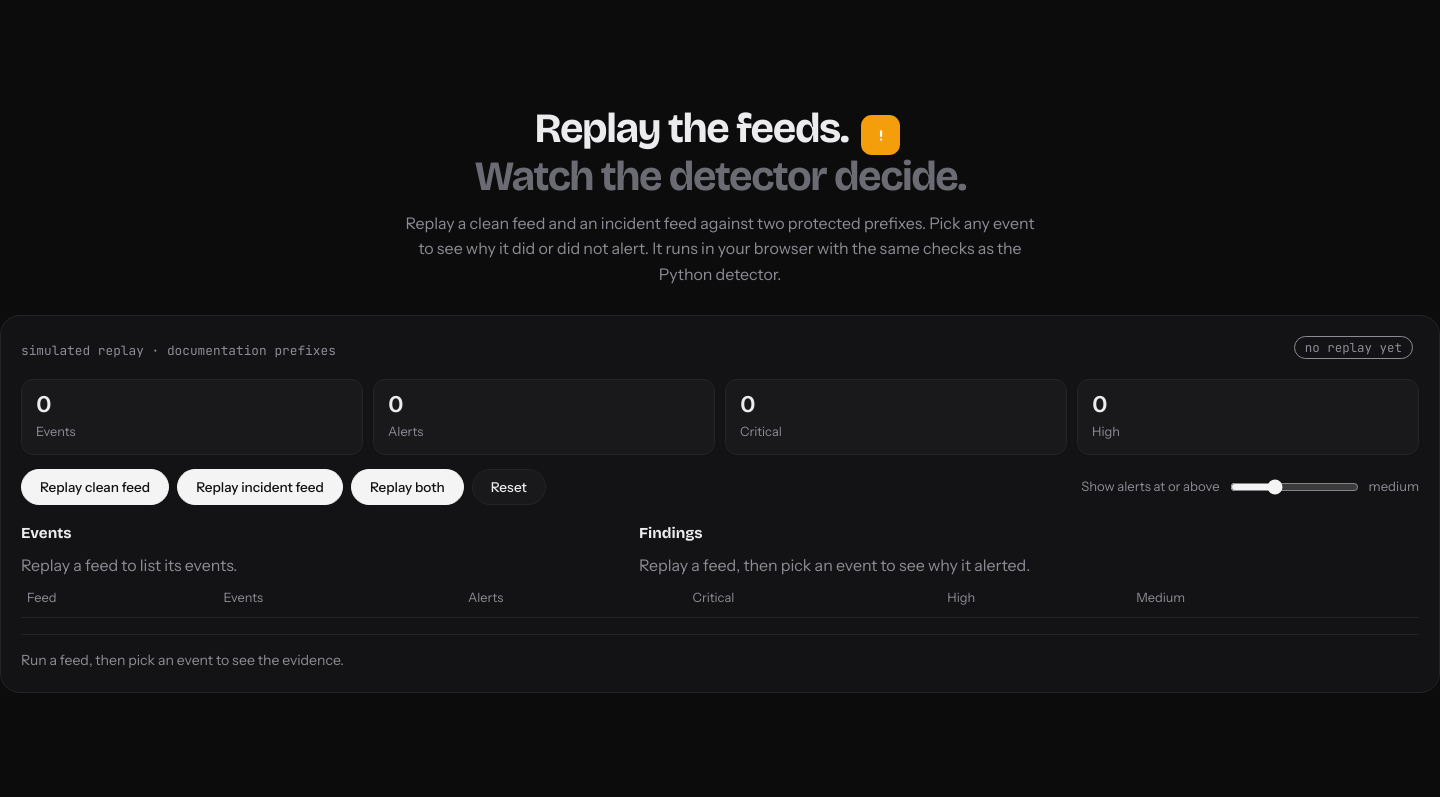
Test case: simulator › selects E4 and shows its three findings plus the evidence list
Click the button "Replay incident feed" at [260, 487], box top-left (177, 469), bottom-right (343, 505)
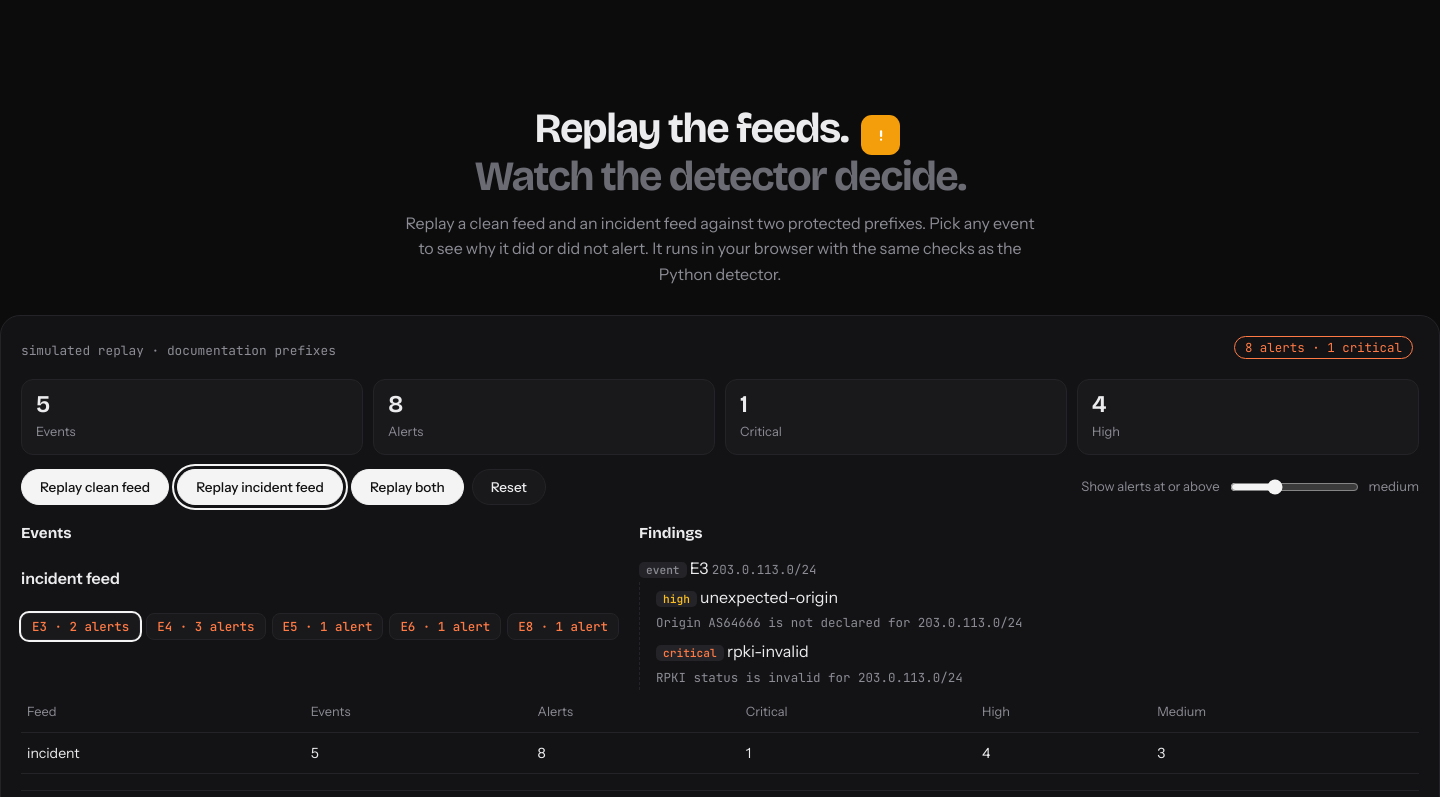
Click the button "E4 · 3 alerts" at [206, 627], box top-left (146, 613), bottom-right (266, 640)
(page scrolled)
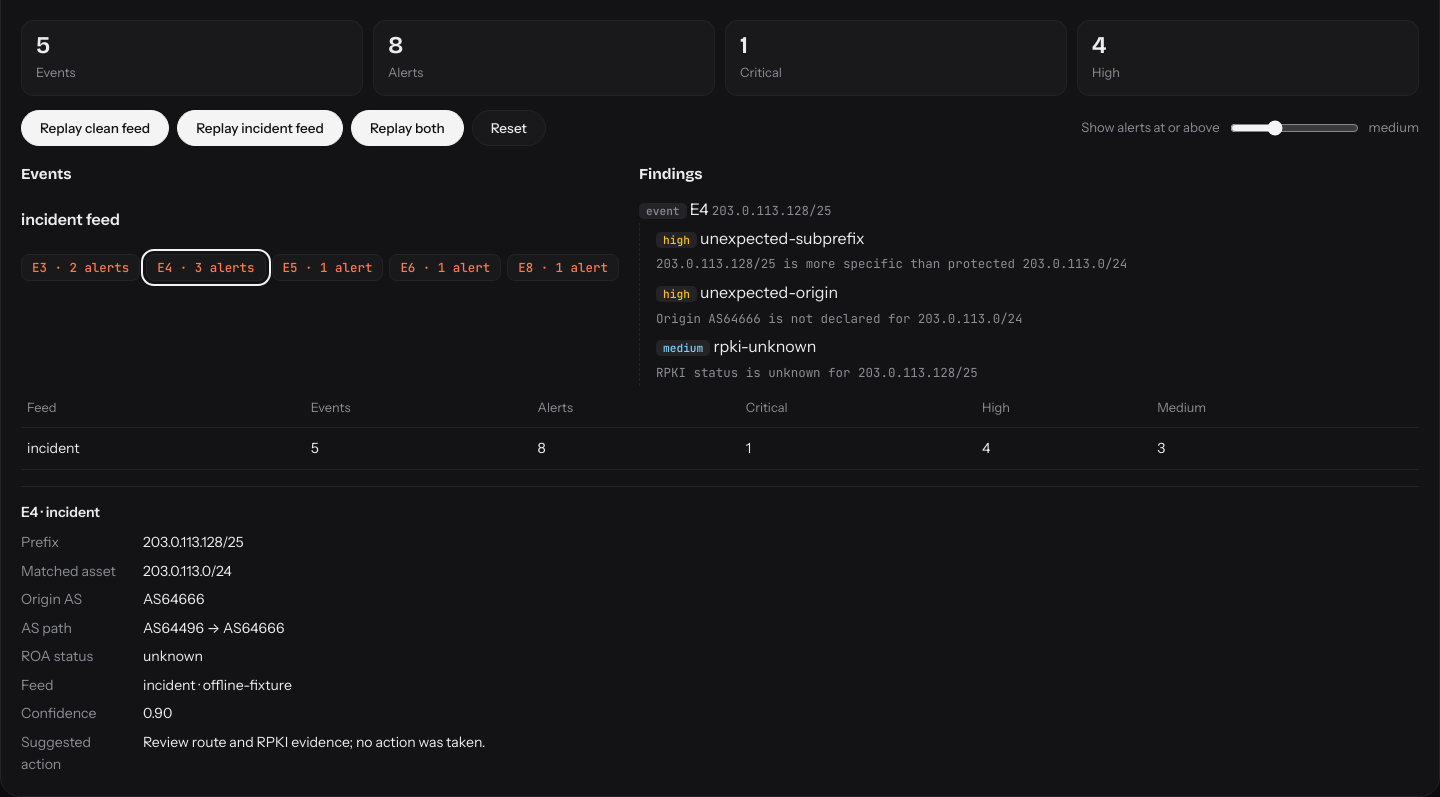
expect the list item "unexpected-origin" is shown: met, box top-left (700, 282), bottom-right (838, 302)
expect the list item "unexpected-subprefix" is shown: met, box top-left (700, 228), bottom-right (865, 248)
expect the list item "rpki-unknown" is shown: met, box top-left (714, 336), bottom-right (816, 356)
